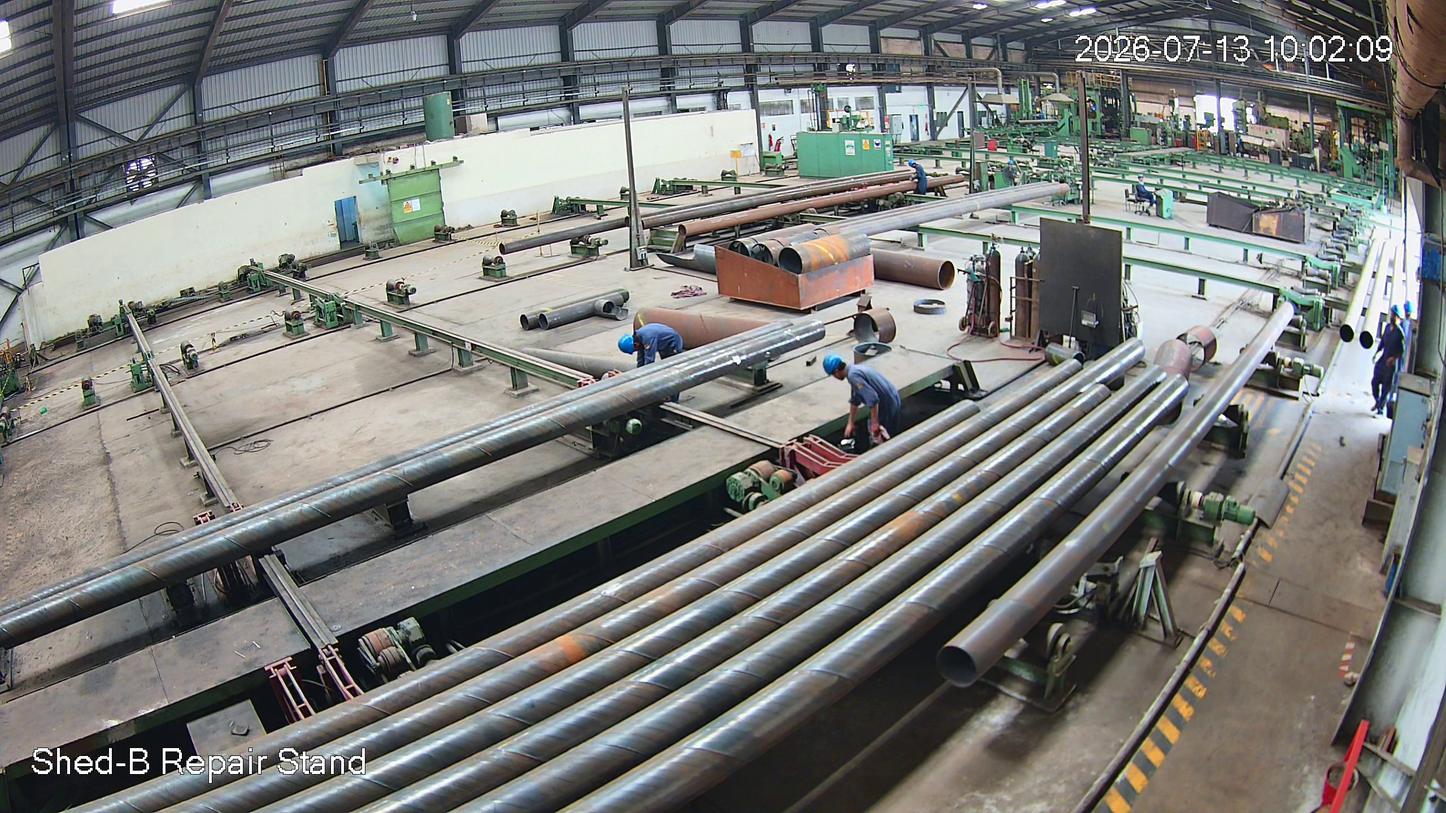Helmet: (819, 353, 853, 383), (615, 330, 640, 355), (1388, 303, 1405, 334)
Person: (820, 354, 903, 458), (618, 324, 684, 404), (1367, 306, 1408, 419)
